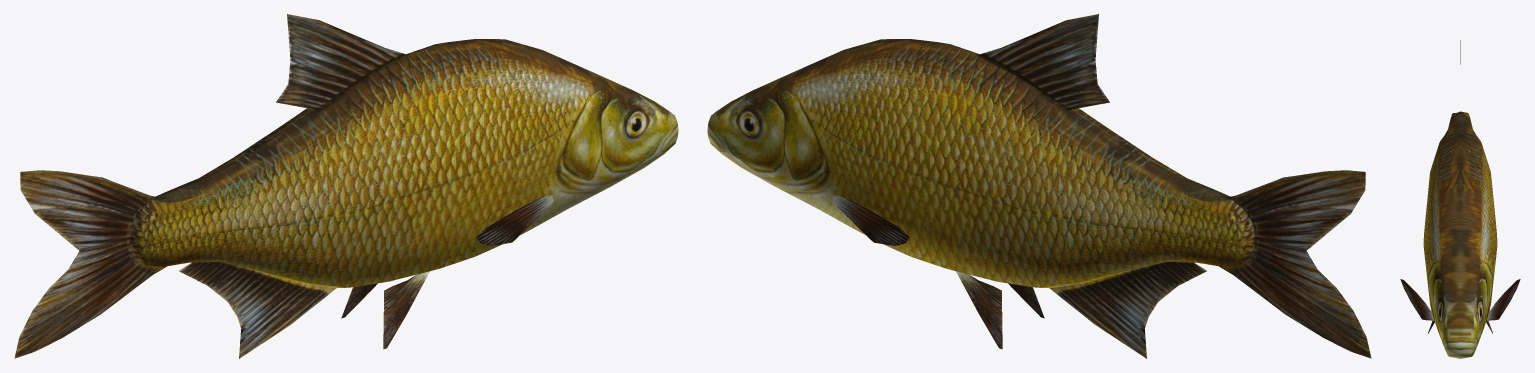
Rendered from CommonBream.glb.
The picture shows the model from 3 angles, left to right: view 1: azimuth 30°, elevation 25°; view 2: azimuth 150°, elevation 25°; view 3: azimuth 270°, elevation 25°; orthographic projection. The views are drawn at different scales.
Visible parts, largest first — view 1: CommonBream; view 2: CommonBream; view 3: CommonBream.
Boxes of the visible parts, left/top/right/bottom form: CommonBream: left=14, top=14, right=678, bottom=358; CommonBream: left=707, top=14, right=1371, bottom=358; CommonBream: left=1400, top=40, right=1520, bottom=358.
Size of the model in its own units: 2 by 0.9789 by 0.4077.
Materials: 1 (1 with a texture image).
